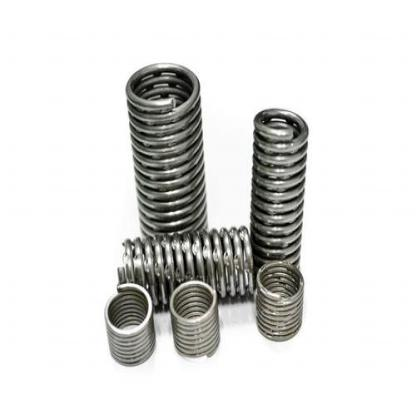FOD: (124, 59, 212, 237), (115, 224, 256, 310), (250, 108, 311, 272), (102, 279, 158, 368), (166, 278, 223, 360), (255, 260, 306, 342)
